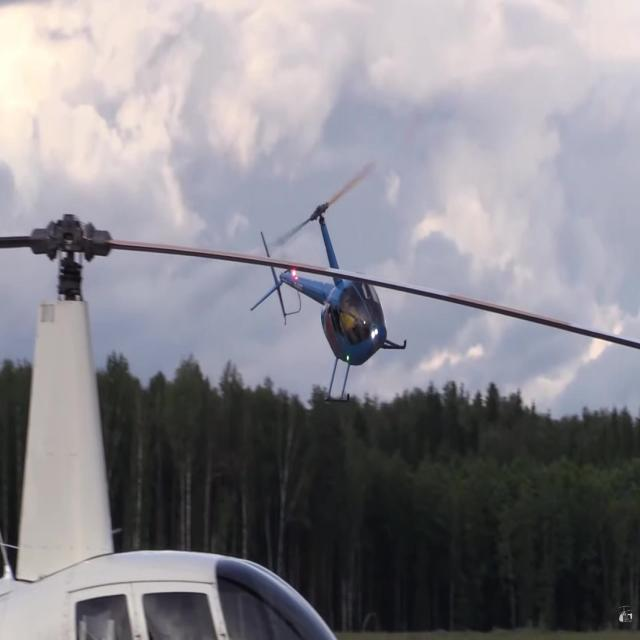CIV_HELO: (250, 198, 408, 408)
